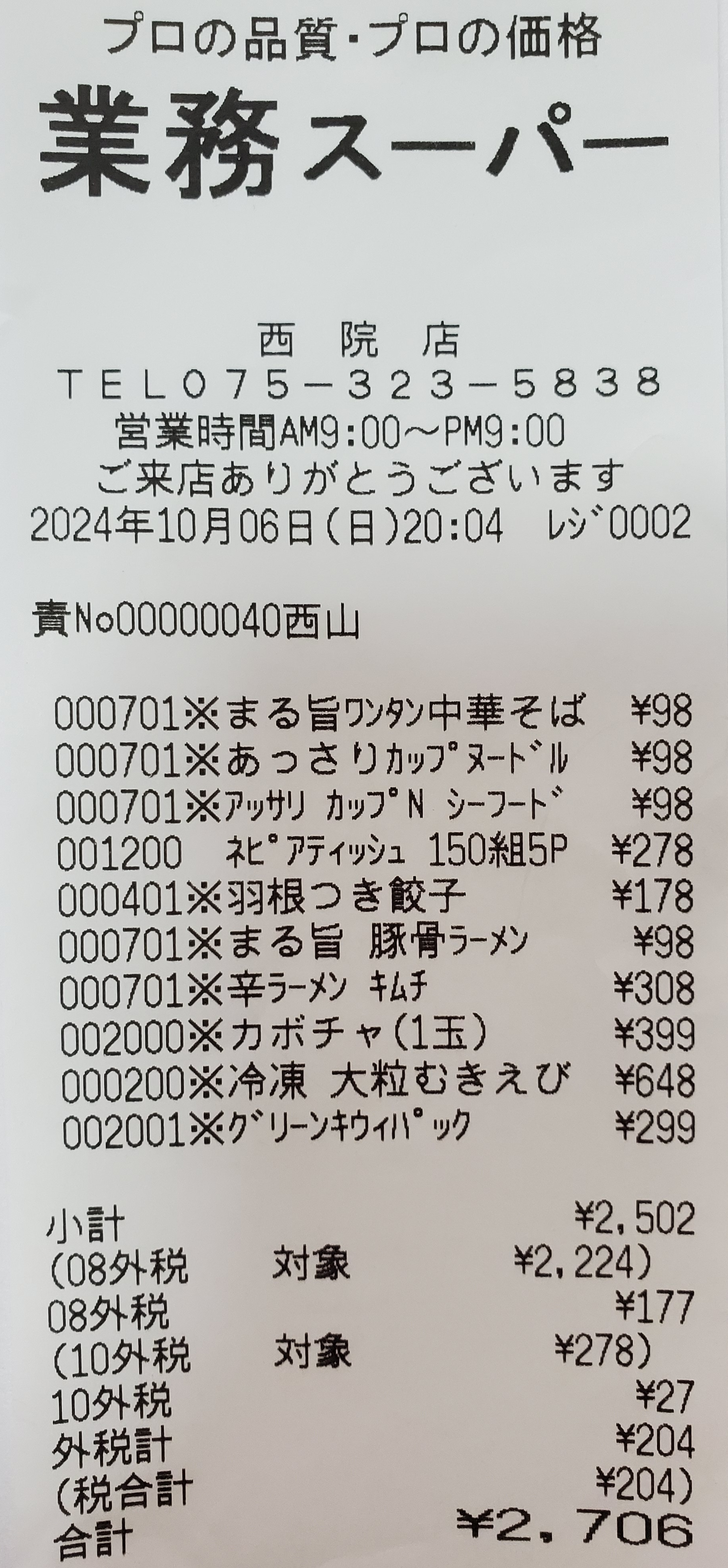Date: (20, 496, 320, 557)
Shopname: (36, 66, 684, 217)
Telnum: (184, 346, 684, 407)
Totalpay: (41, 1505, 712, 1564)
